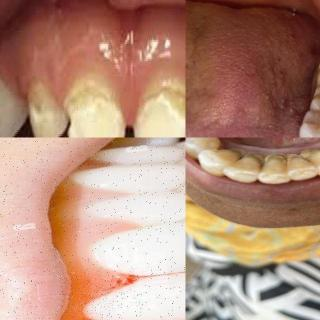Gum Swelling: (66, 268, 174, 320), (134, 73, 186, 137)
calculus: (240, 148, 266, 170), (298, 145, 320, 167), (262, 150, 284, 171), (284, 149, 304, 172), (226, 144, 246, 164)
